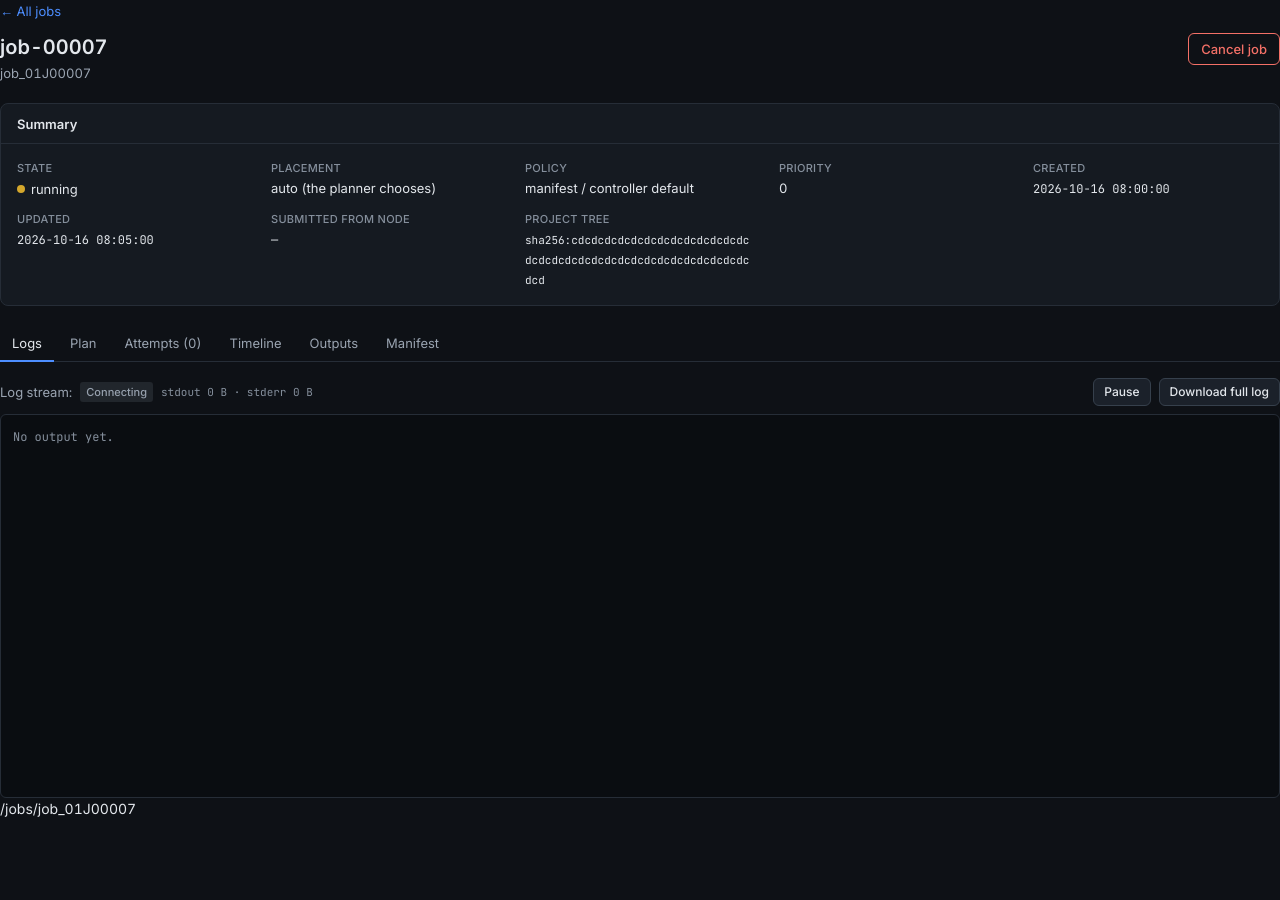
cancel (D176) under awkward use › 'Keep running' closes the dialog without any request (Escape is covered in the e2e, real Chromium)
Expected: the heading "job-00007" is shown, x1=0 y1=33 x2=108 y2=61
Click the button "Cancel job".
click(1234, 49)  # box x1=1188 y1=33 x2=1279 y2=65
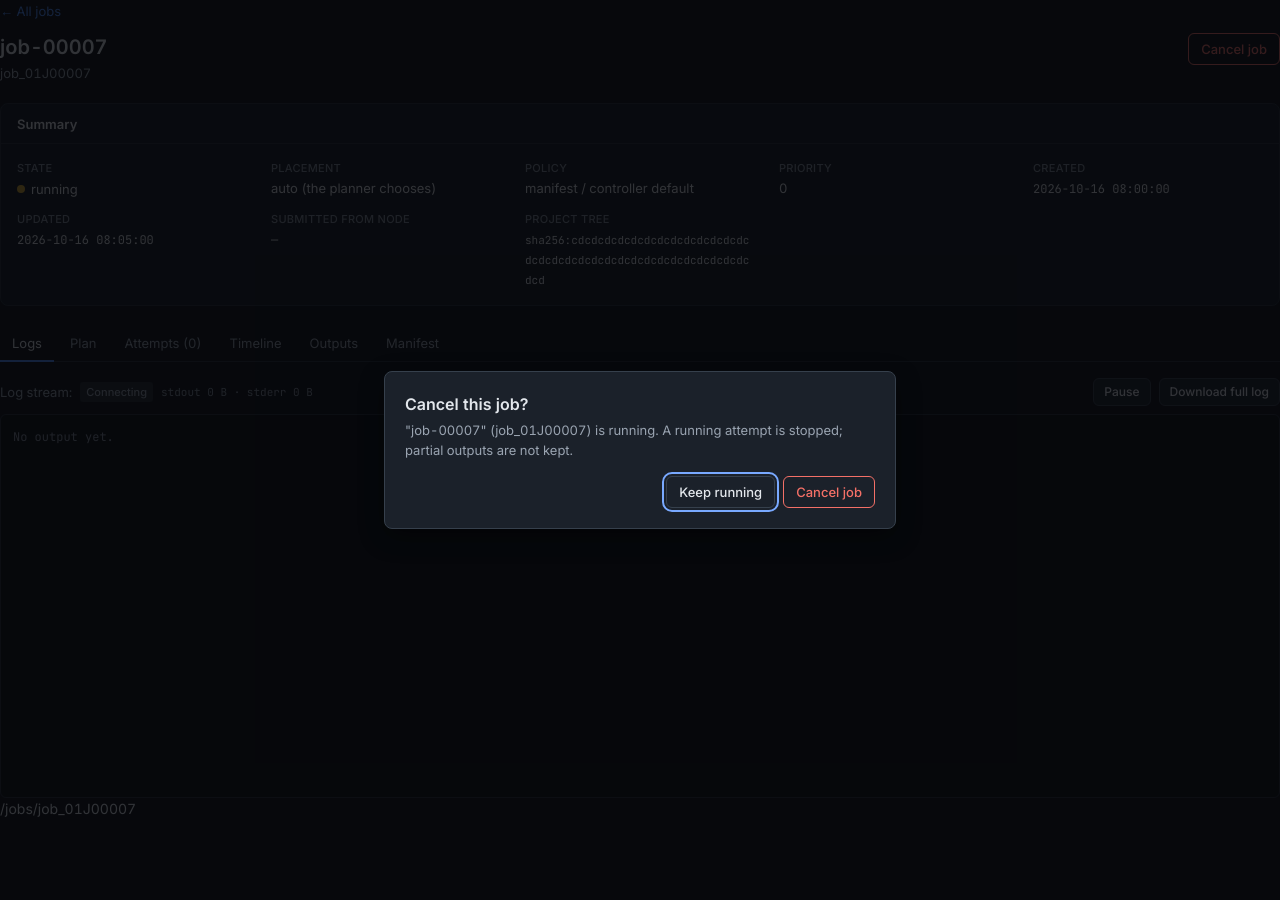
Click the button "Keep running".
click(721, 492)  # box x1=666 y1=476 x2=775 y2=508
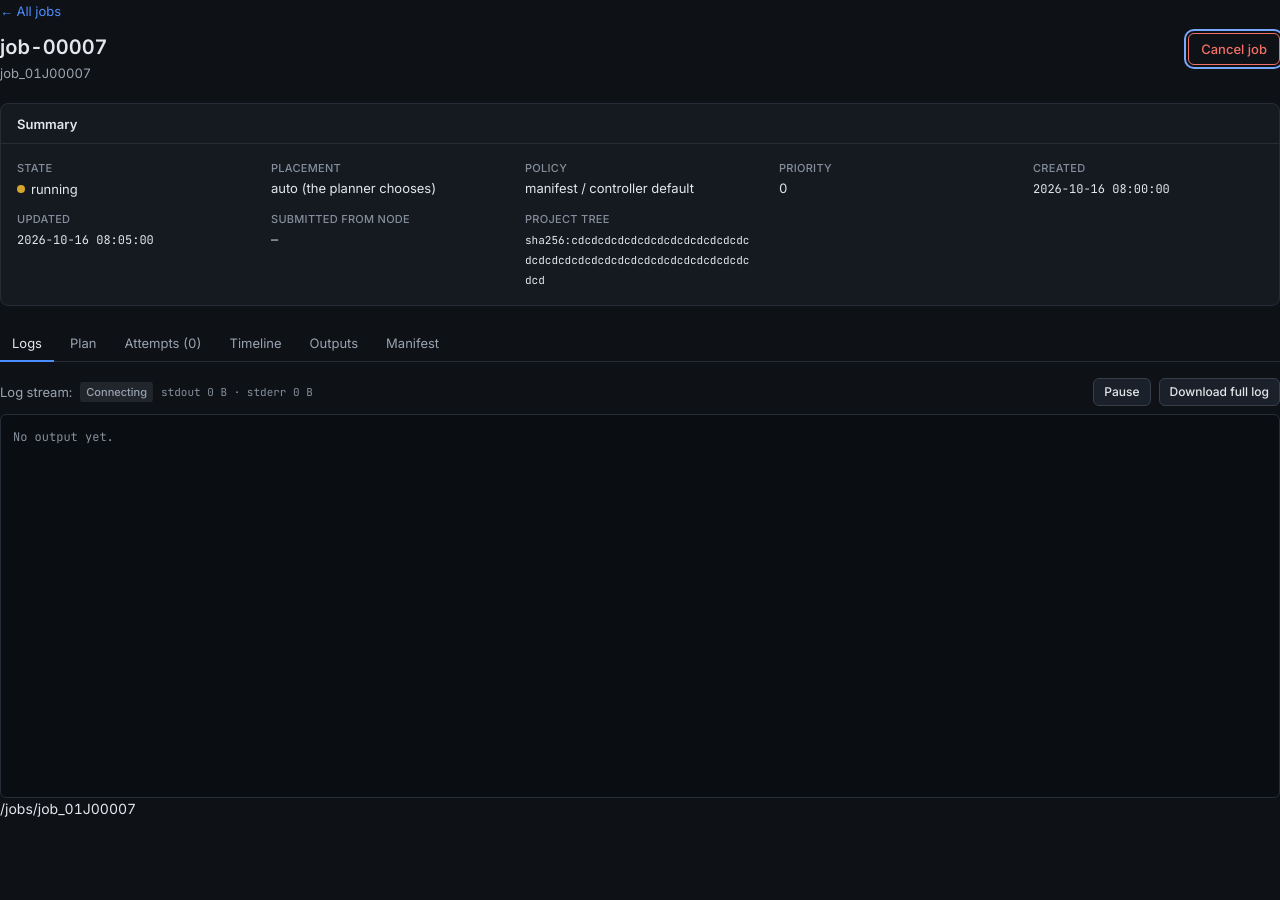
Result: the dialog is gone
